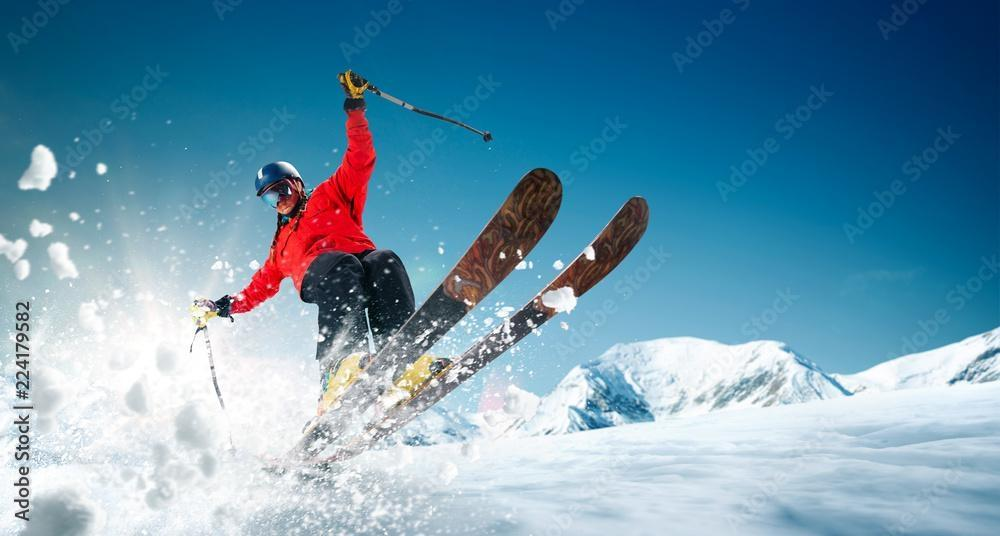Skis: (278, 158, 672, 486)
